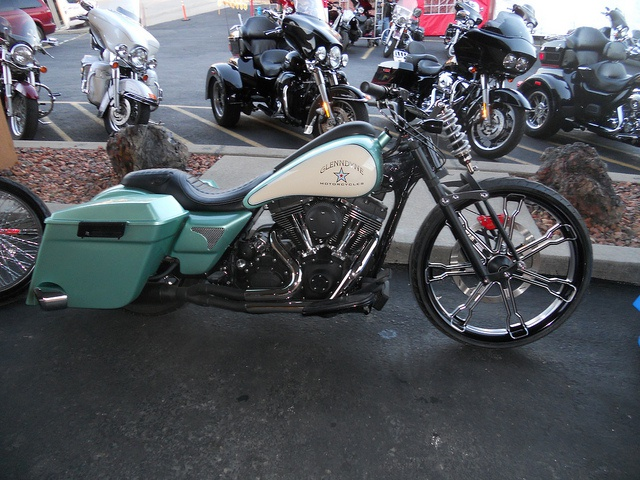non-vehicle: (30, 83, 589, 352), (371, 11, 536, 158), (203, 8, 373, 139), (515, 27, 639, 149), (78, 4, 163, 135), (0, 5, 62, 138), (0, 176, 55, 304), (540, 10, 639, 57), (439, 0, 483, 58), (379, 0, 423, 56), (323, 0, 368, 48), (507, 3, 537, 34)
